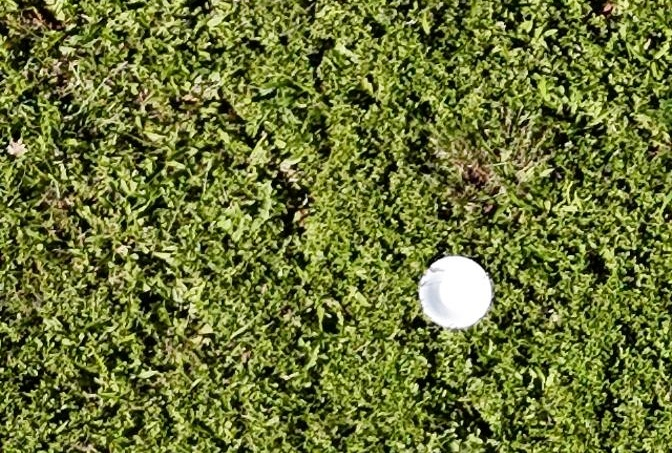bowl: (417, 255, 492, 330)
